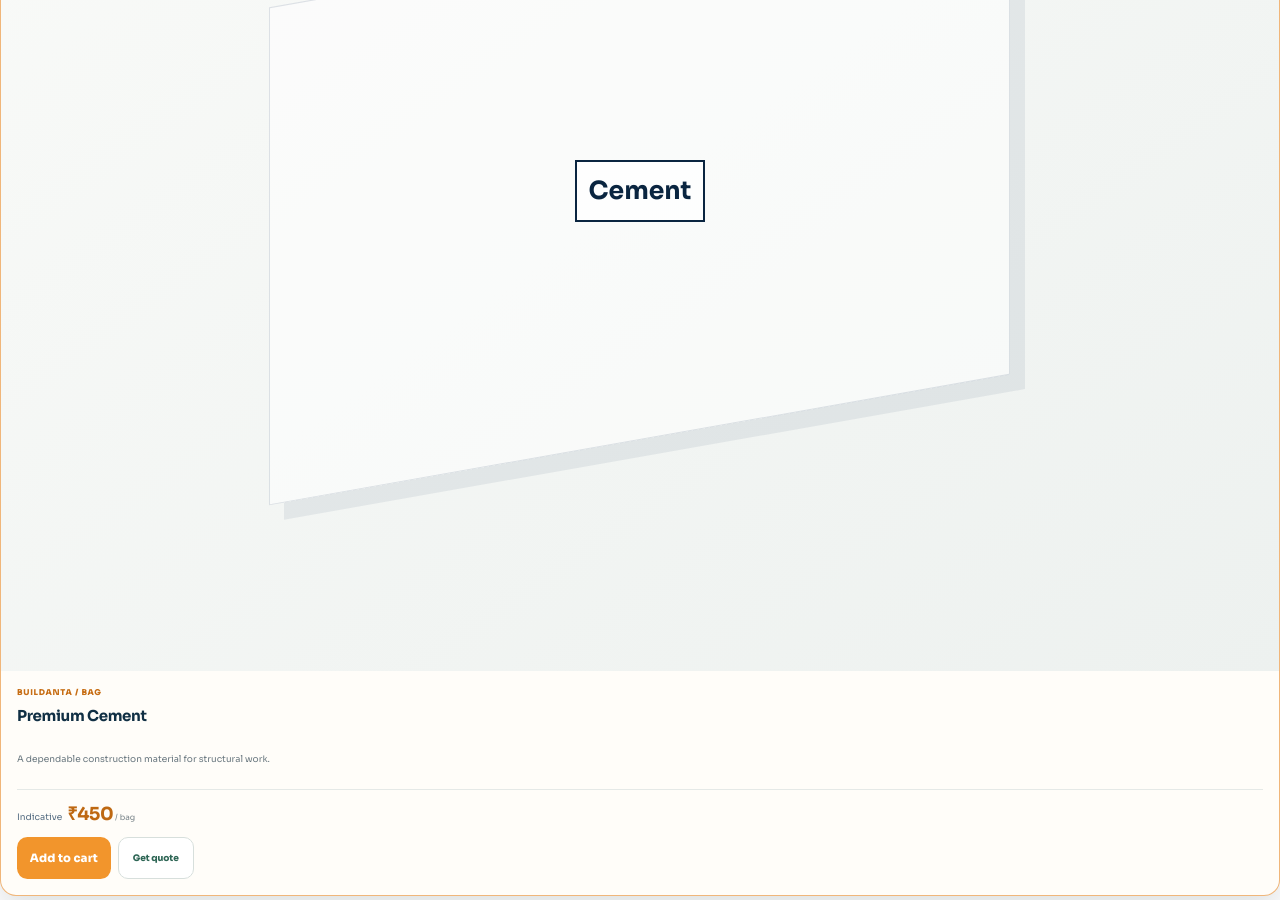
Scenario: ProductCard purchase actions › updates the shared cart count immediately after a successful add
This screenshot has width=1280, height=900.
(page scrolled)
Click the button with aria-label "Add Premium Cement to cart". click: (64,858)
box: [17,837,111,879]
(page scrolled)
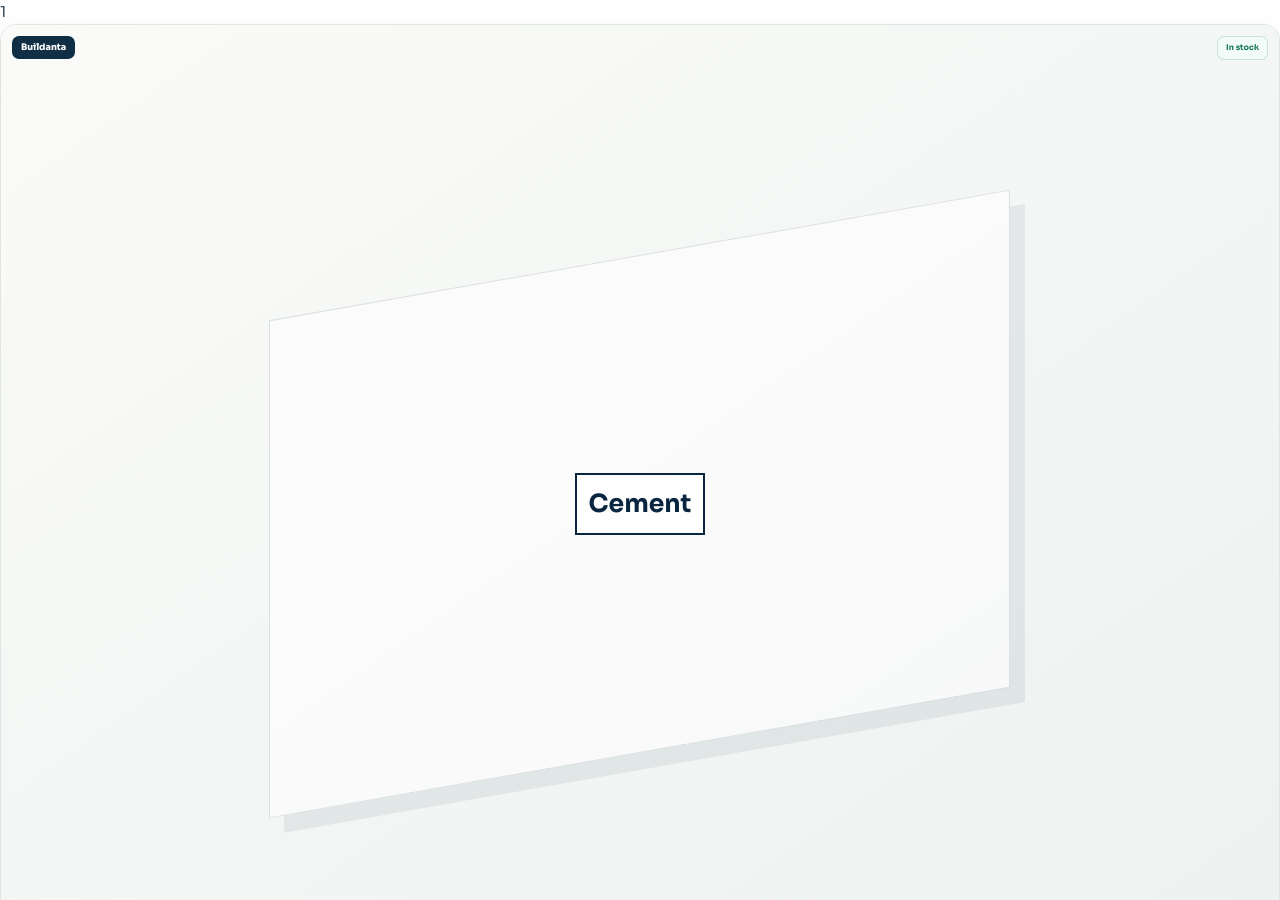
Now the text named "Cart item count" reads "1", box [0,2,6,21]
